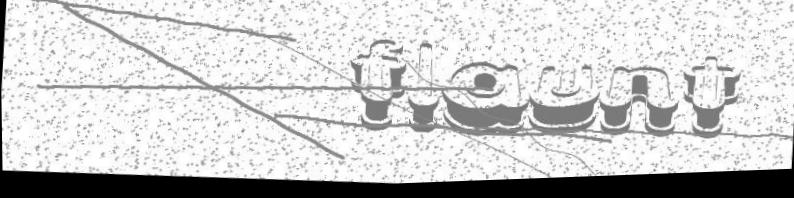a: (438, 61, 532, 144)
f: (345, 38, 411, 138)
l: (404, 44, 445, 139)
n: (596, 67, 682, 147)
t: (677, 58, 742, 147)
u: (525, 64, 601, 145)
